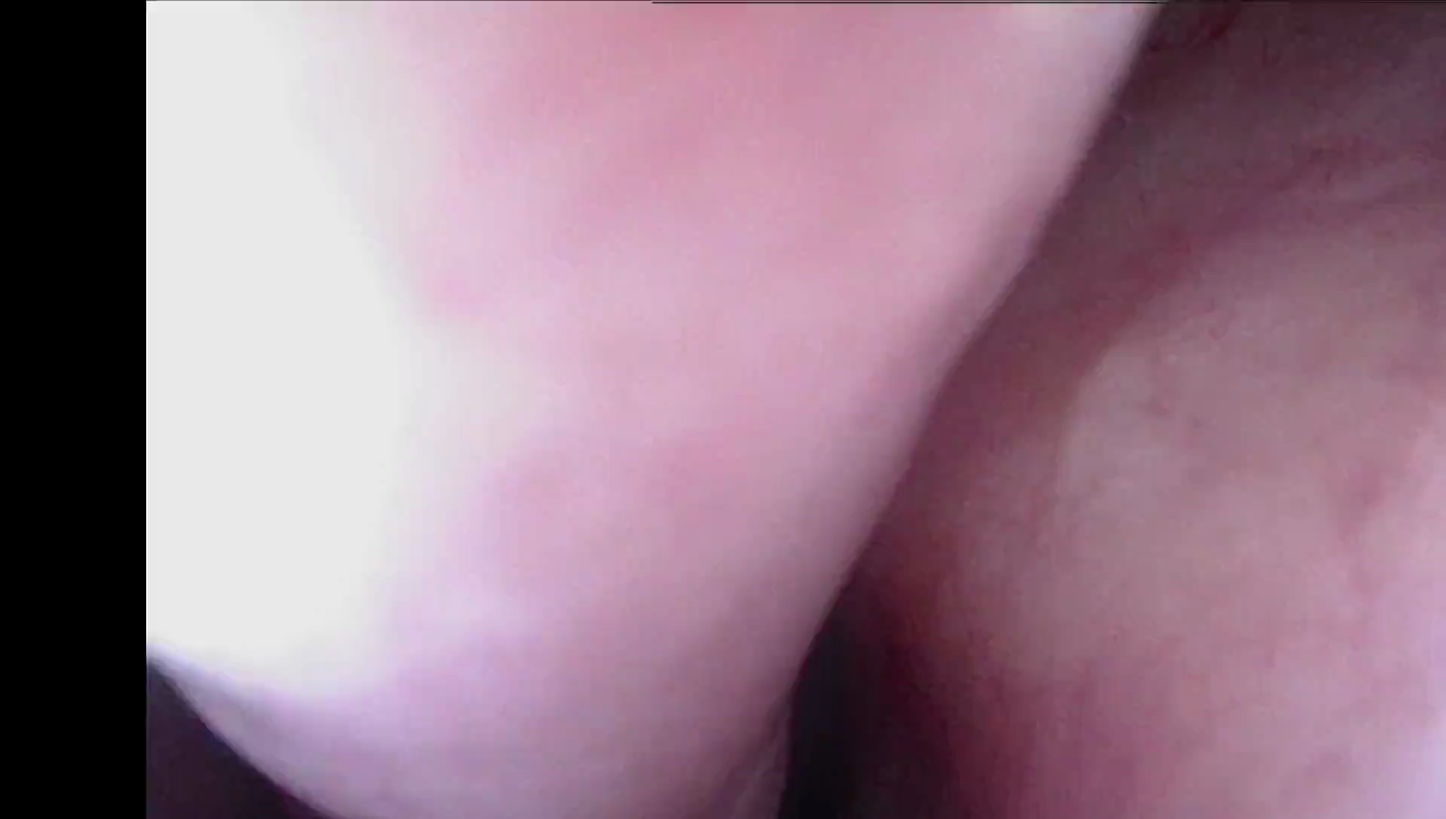close_wall: (171, 0, 763, 700)
next: (709, 558, 995, 819), (149, 620, 398, 819)
